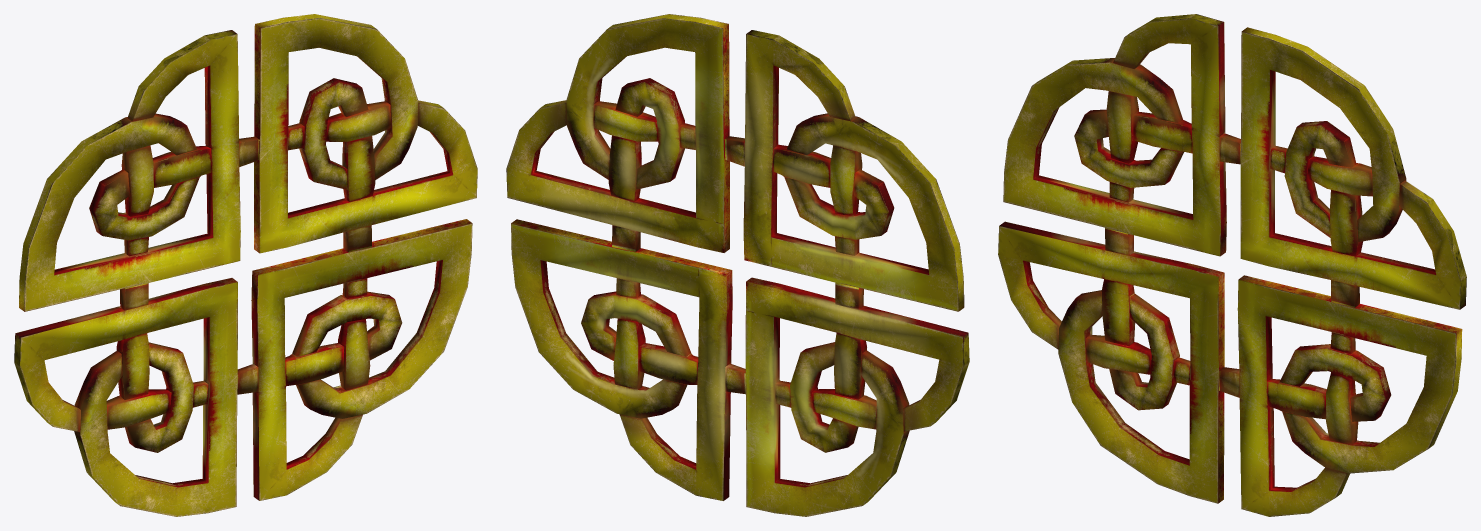
Rendered from mountain_env_knot.gltf.
The picture shows the model from 3 angles, left to right: view 1: azimuth 30°, elevation 25°; view 2: azimuth 150°, elevation 25°; view 3: azimuth 330°, elevation 25°; orthographic projection.
Parts seen in each view (by area): view 1: mountain_env_knot_glb; view 2: mountain_env_knot_glb; view 3: mountain_env_knot_glb.
Part boxes in pixels (x1=…): mountain_env_knot_glb: x1=14, y1=14, x2=477, y2=516; mountain_env_knot_glb: x1=506, y1=14, x2=969, y2=516; mountain_env_knot_glb: x1=998, y1=14, x2=1466, y2=516.
Size of what is drawn, in the model's own units: 2.64 by 2.62 by 0.0813.
Materials: 1 (1 with a texture image).
